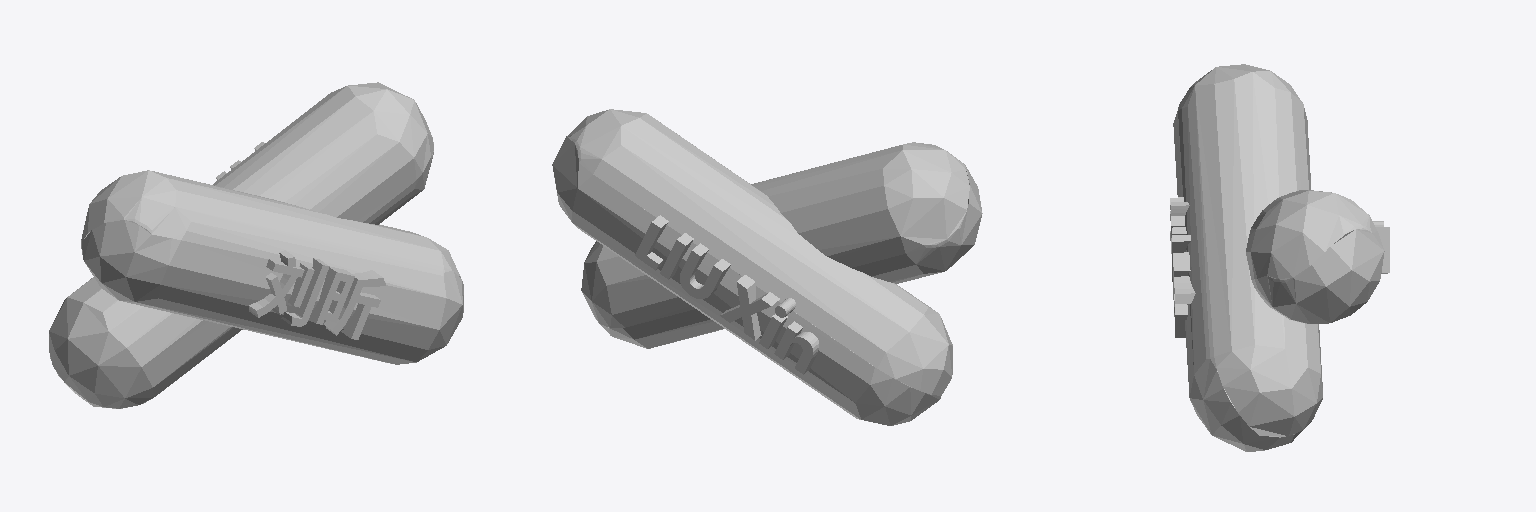
Rendered from LiuXin.obj.
3 views of the same model, side by side, from view 1: azimuth 30°, elevation 25°; view 2: azimuth 150°, elevation 25°; view 3: azimuth 270°, elevation 25° (orthographic).
Parts seen in each view (by area): view 1: root_3, root_2, node_id808; view 2: root_2, root_3, node_id821; view 3: root_3, root_2, node_id808.
Boxes of the visible parts, x1,y1,x2,y2 form: root_3: [81, 170, 463, 364]; root_2: [49, 82, 433, 408]; node_id808: [249, 250, 385, 339]; root_2: [552, 109, 952, 425]; root_3: [581, 142, 982, 348]; node_id821: [635, 215, 818, 374]; root_3: [1173, 64, 1322, 451]; root_2: [1246, 190, 1384, 323]; node_id808: [1170, 197, 1195, 337].
Size of the model in its own units: 0.289 by 0.1836 by 0.1458.